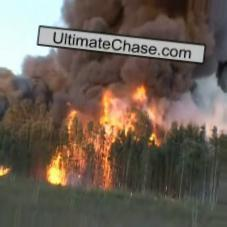fire: (44, 80, 163, 191), (0, 158, 19, 178)
